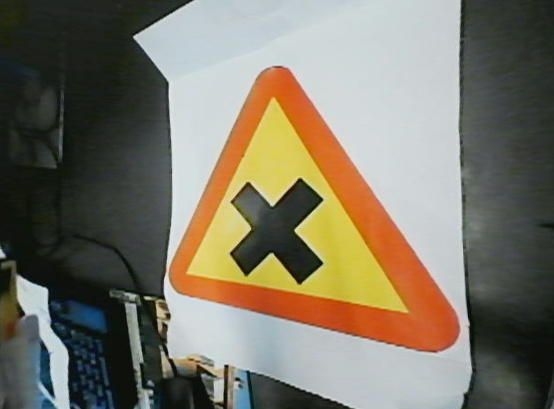junction: (161, 55, 464, 359)
